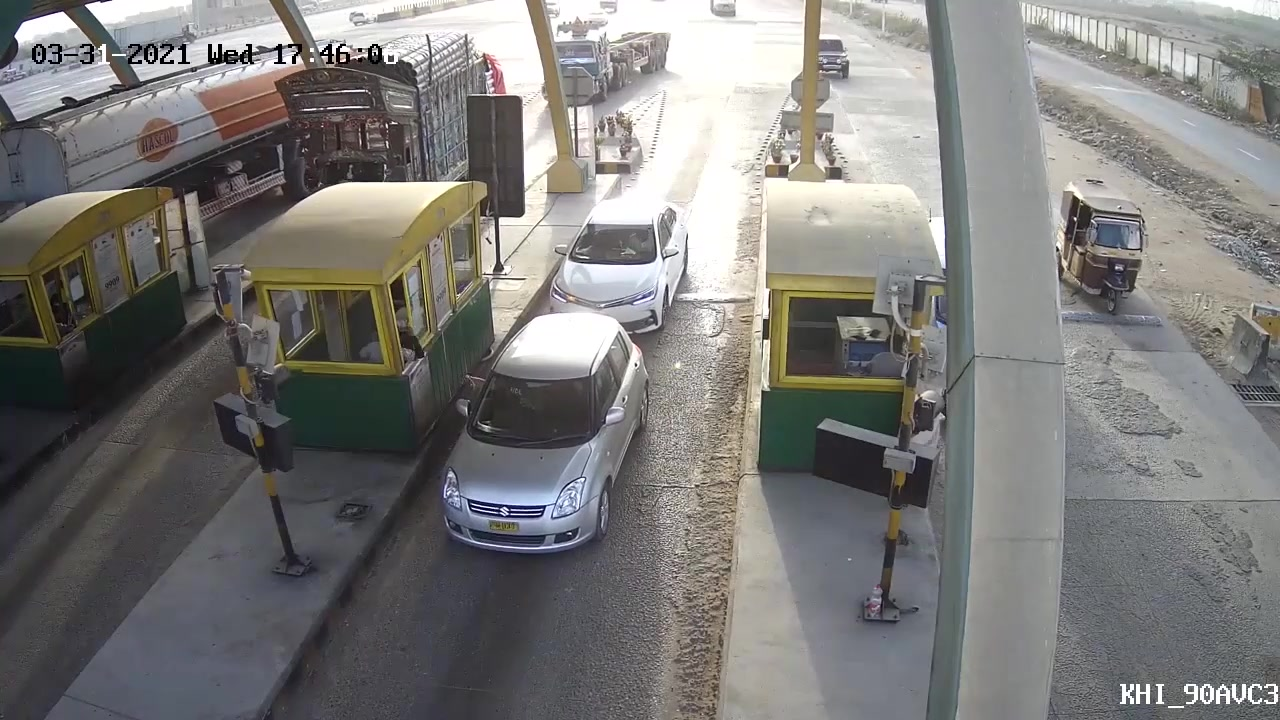F1: (433, 312, 646, 572), (556, 196, 692, 339)
